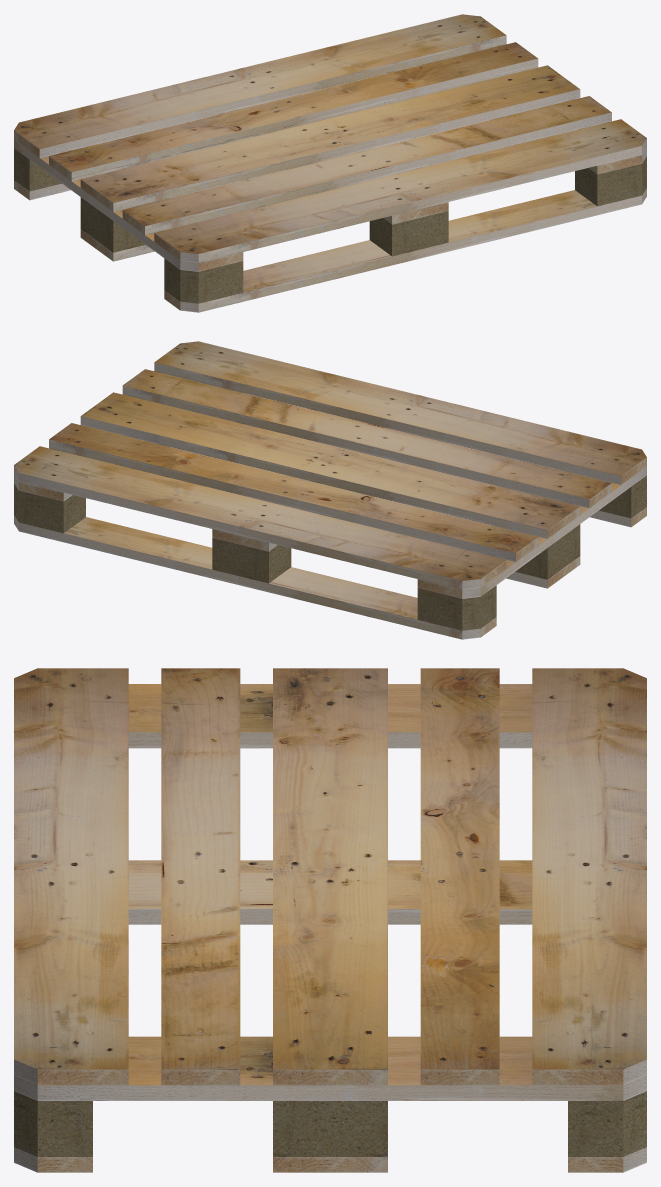
File: unit_epal1_1200x800x144_v14.glb
The picture shows the model from 3 angles, top to bottom: view 1: azimuth 30°, elevation 25°; view 2: azimuth 150°, elevation 25°; view 3: azimuth 270°, elevation 25°; orthographic projection. The views are drawn at different scales.
Parts seen in each view (by area): view 1: EUR new_0; view 2: EUR new_0; view 3: EUR new_0.
Boxes of the visible parts, x1,y1,x2,y2 form: EUR new_0: (14, 14, 646, 312); EUR new_0: (14, 341, 646, 639); EUR new_0: (14, 668, 646, 1172).
Bounding box in the file's own units: 1.2 × 0.144 × 0.8.
Materials: 4 (4 with a texture image).
